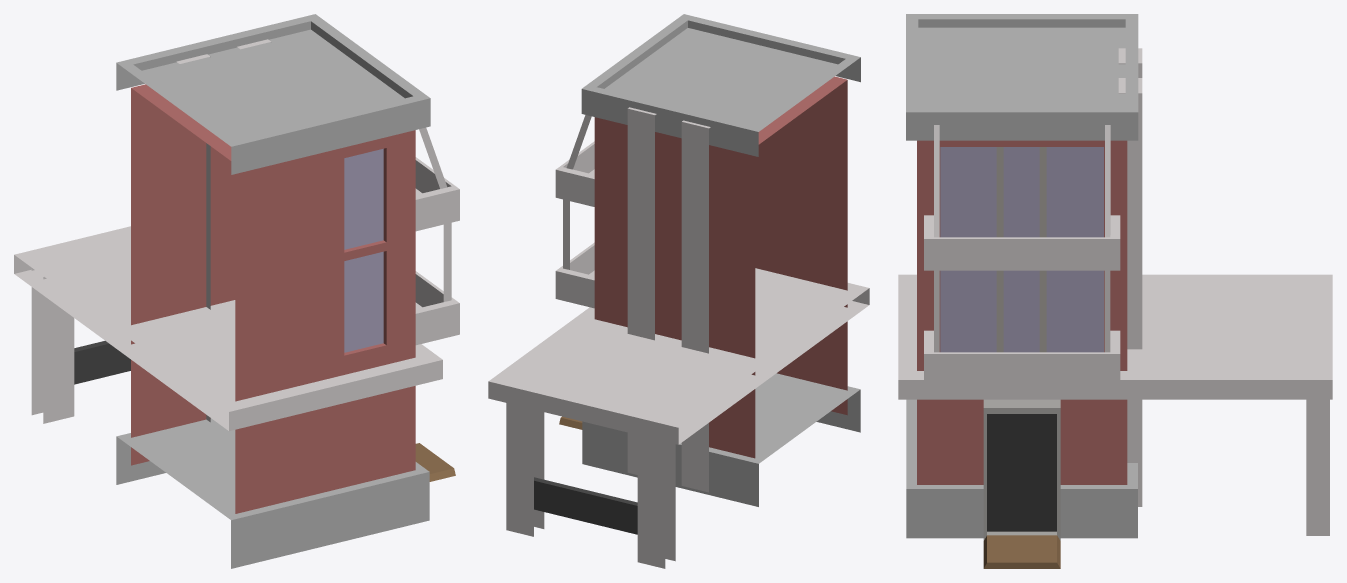
The model's file is LP_House_1.fbx.
3 views of the same model, side by side, from view 1: azimuth 30°, elevation 25°; view 2: azimuth 150°, elevation 25°; view 3: azimuth 270°, elevation 25° (orthographic). The views are drawn at different scales.
Visible parts, largest first — view 1: Cube, Куб.008, Cube.003, Куб, Cube.009, Куб.006, Куб.005, Cube.010, Cube.007, Cube.002, Куб.009; view 2: Cube, Cube.003, Куб.008, Cube.002, Куб, Cube.009, Cube.008, Cube.010, Куб.006, Куб.005, Cube.007; view 3: Cube, Cube.003, Куб.008, Куб.007, Куб, Куб.005, Куб.006, Cube.002, Cube.008, Куб.009, Cube.007, Куб.001 (+3 smaller).
Boxes of the visible parts, x1,y1,x2,y2 form: Cube: (131, 84, 415, 513); Куб.008: (116, 14, 430, 174); Cube.003: (14, 226, 442, 431); Куб: (116, 418, 429, 568); Cube.009: (31, 268, 74, 423); Куб.006: (415, 271, 459, 345); Куб.005: (415, 157, 459, 231); Cube.010: (74, 341, 130, 384); Cube.007: (419, 127, 451, 301); Cube.002: (176, 39, 270, 422); Куб.009: (415, 443, 455, 481); Cube: (594, 76, 847, 458); Cube.003: (488, 268, 869, 444); Куб.008: (581, 14, 860, 156); Cube.002: (627, 107, 710, 492); Куб: (582, 373, 860, 506); Cube.009: (637, 435, 675, 568); Cube.008: (506, 403, 544, 536); Cube.010: (534, 477, 637, 534); Куб.006: (555, 242, 594, 308); Куб.005: (555, 141, 594, 206); Cube.007: (563, 115, 591, 269); Cube: (917, 140, 1127, 484); Cube.003: (898, 274, 1332, 399); Куб.008: (906, 14, 1138, 140); Куб.007: (983, 399, 1060, 540); Куб: (906, 399, 1137, 538); Куб.005: (924, 215, 1120, 270); Куб.006: (924, 330, 1120, 385); Cube.002: (1118, 48, 1142, 506); Cube.008: (1306, 399, 1329, 535); Куб.009: (983, 535, 1060, 568); Cube.007: (934, 125, 1110, 352); Куб.001: (996, 147, 1003, 237).
Size of the model in its own units: 894 by 1349 by 1237.
